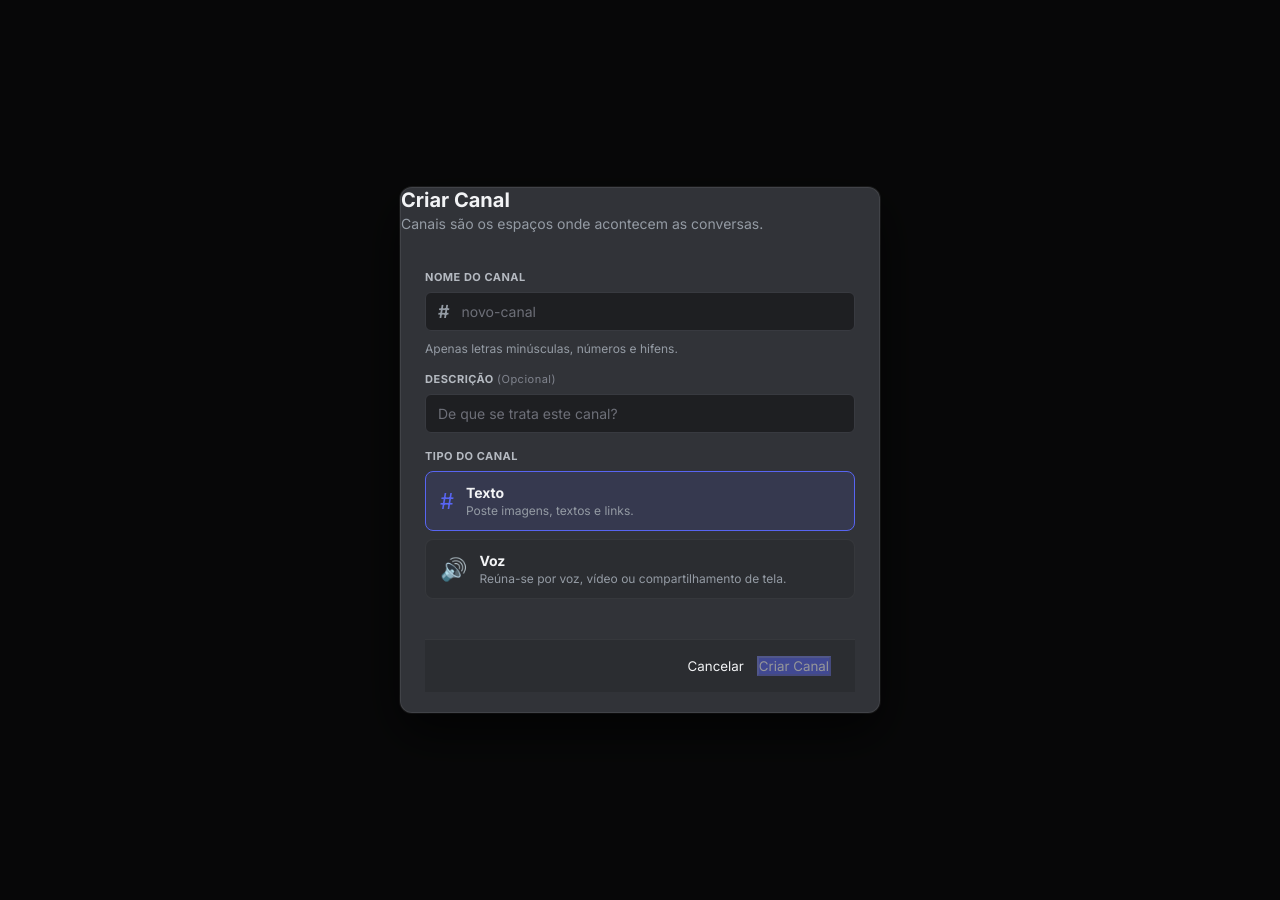
Test: CreateChannelModal Component › validates channel name minimum length
Type "a" into the field with placeholder "novo-canal" at (658, 312), box [462,293,854,330]
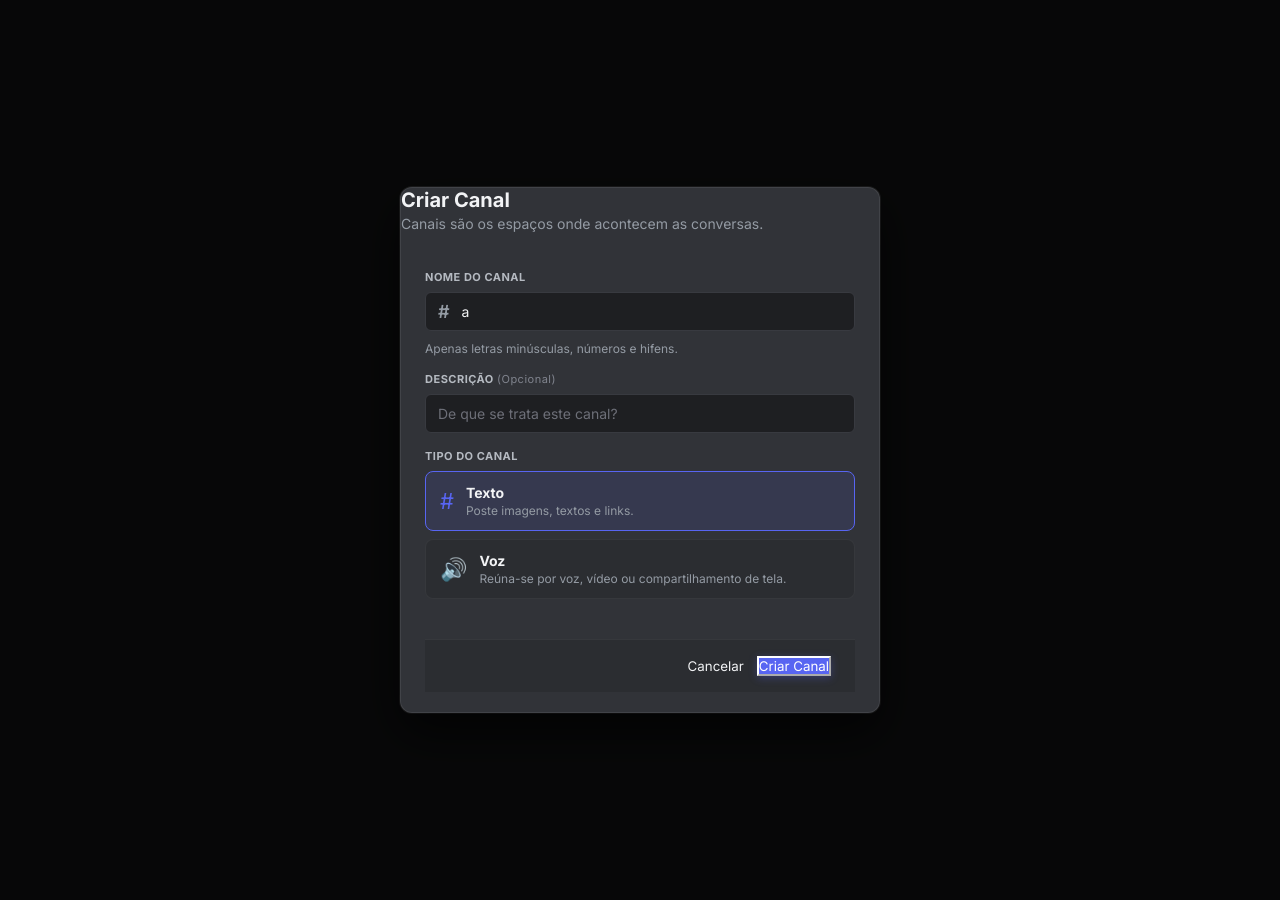
Click the button "Criar Canal" at (794, 666), box [757,656,831,676]
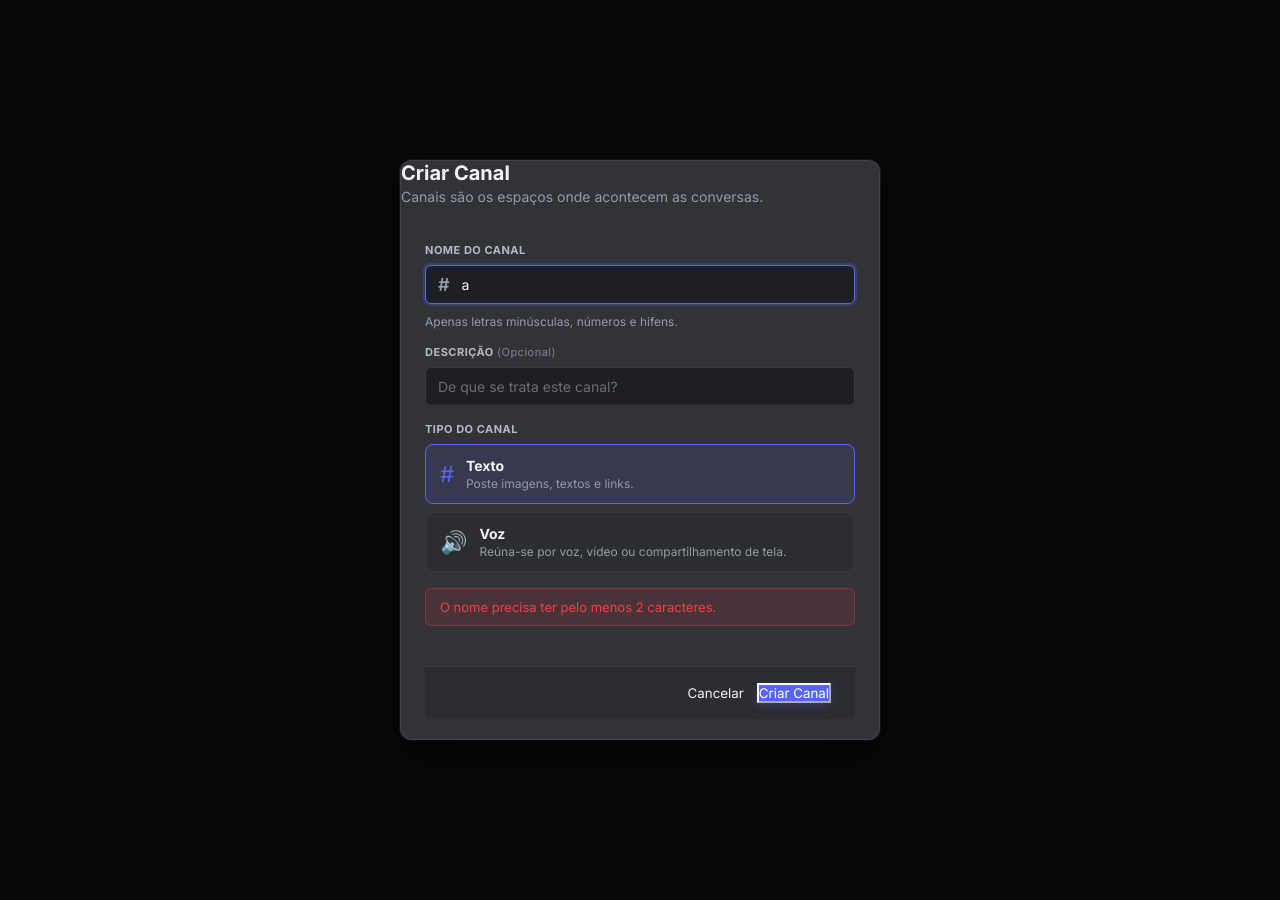
Expected: the message reads "O nome precisa ter pelo menos 2 caracteres.", [440,599,716,615]
